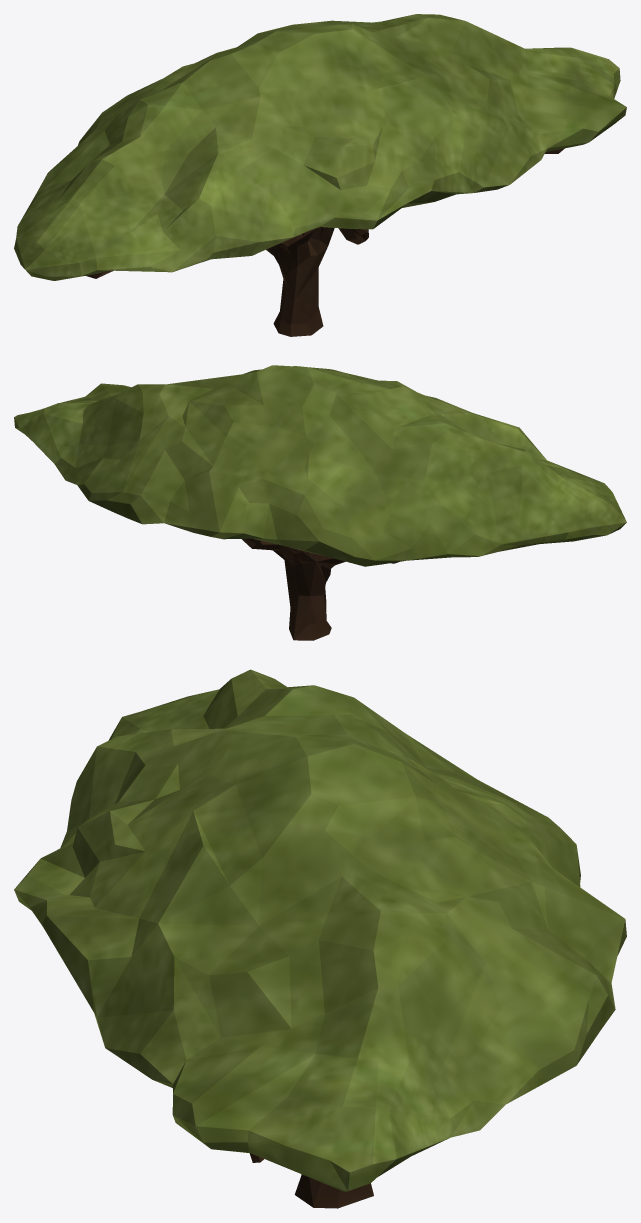
File: acacia.glb
The picture shows the model from 3 angles, top to bottom: view 1: azimuth 30°, elevation 25°; view 2: azimuth 150°, elevation 25°; view 3: azimuth 270°, elevation 25°; orthographic projection. The views are drawn at different scales.
Parts seen in each view (by area): view 1: Acacia_Mesh; view 2: Acacia_Mesh; view 3: Acacia_Mesh.
Part boxes in pixels (bbox=[...]): Acacia_Mesh: bbox=[14, 14, 626, 336]; Acacia_Mesh: bbox=[14, 365, 626, 640]; Acacia_Mesh: bbox=[14, 669, 626, 1208].
Size of the model in its own units: 23.32 by 10.2 by 12.76.
Materials: 1 (1 with a texture image).
